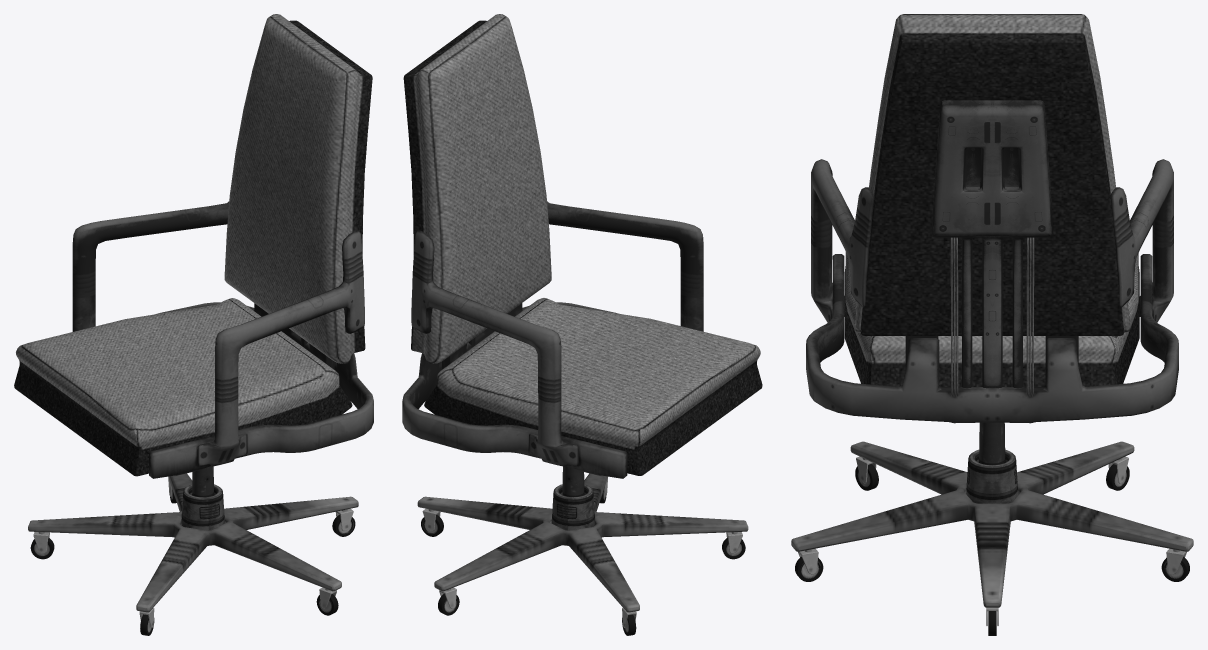
Rendered from office_chair (4).glb.
3 renders of one model, left to right at view 1: azimuth 30°, elevation 25°; view 2: azimuth 150°, elevation 25°; view 3: azimuth 270°, elevation 25°, orthographic. The views are drawn at different scales.
Visible parts, largest first — view 1: Plane.003, Plane, Plane.005, Cube, Plane.002, Cylinder, Circle; view 2: Plane.003, Plane, Plane.005, Cube, Plane.002, Cylinder, Circle; view 3: Plane.003, cable, Plane.002, Cube, Plane.005, Plane, Cylinder, Circle.
Part boxes in pixels (bbox=[...]): Plane.003: bbox=[224, 14, 372, 363]; Plane: bbox=[14, 298, 352, 476]; Plane.005: bbox=[72, 201, 364, 466]; Cube: bbox=[28, 473, 358, 612]; Plane.002: bbox=[149, 302, 373, 478]; Cylinder: bbox=[181, 466, 224, 530]; Circle: bbox=[30, 478, 355, 635]; Plane.003: bbox=[403, 14, 551, 363]; Plane: bbox=[424, 298, 762, 475]; Plane.005: bbox=[411, 201, 703, 466]; Cube: bbox=[417, 473, 748, 612]; Plane.002: bbox=[402, 302, 627, 478]; Cylinder: bbox=[551, 466, 595, 530]; Circle: bbox=[421, 478, 745, 635]; Plane.003: bbox=[854, 14, 1130, 335]; cable: bbox=[931, 100, 1053, 396]; Plane.002: bbox=[806, 254, 1178, 423]; Cube: bbox=[791, 441, 1193, 607]; Plane.005: bbox=[811, 159, 1173, 322]; Plane: bbox=[844, 252, 1139, 386]; Cylinder: bbox=[966, 422, 1018, 503]; Circle: bbox=[795, 456, 1189, 635].
Bounding box in the file's own units: 0.7904 × 1.34 × 0.8144.
1 material, 1 textured.
